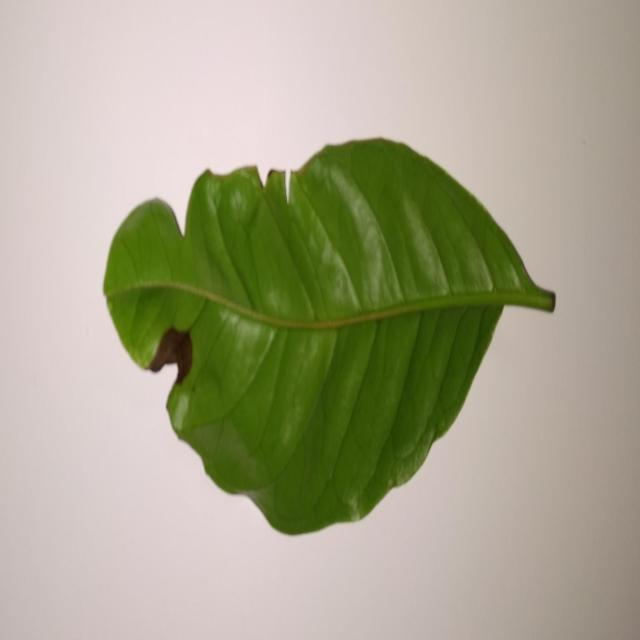Enfermedad-Antracnosis: (102, 138, 556, 539)
